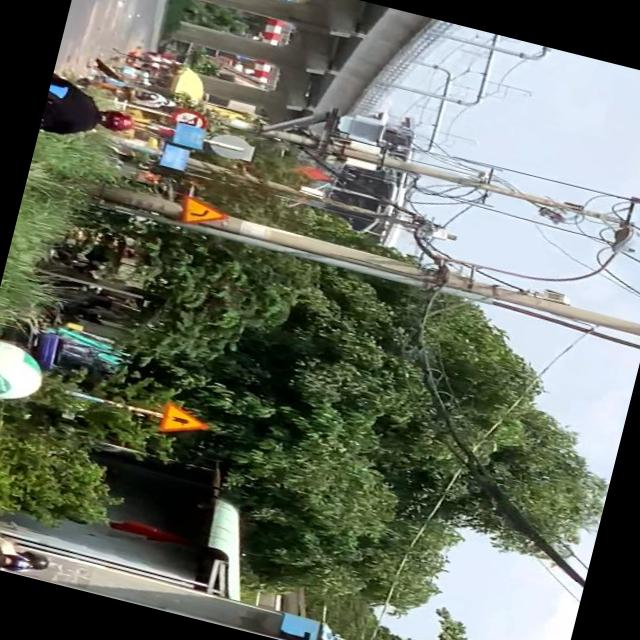W-201a: (176, 194, 231, 231)
W-207b: (156, 398, 219, 444)
